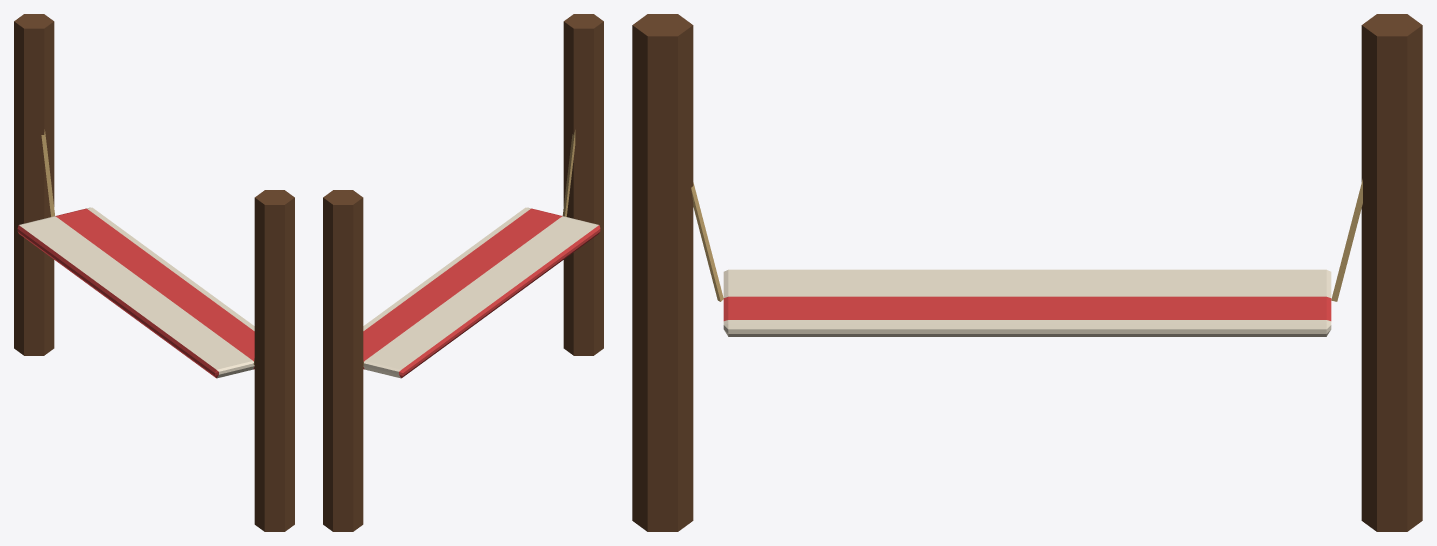
File: Hammock.fbx
3 renders of one model, left to right at view 1: azimuth 30°, elevation 25°; view 2: azimuth 150°, elevation 25°; view 3: azimuth 270°, elevation 25°, orthographic. The views are drawn at different scales.
Visible parts, largest first — view 1: Hammock; view 2: Hammock; view 3: Hammock.
Part boxes in pixels (<box>): Hammock: <box>14,14,294,531</box>; Hammock: <box>323,14,603,531</box>; Hammock: <box>632,14,1422,531</box>.
Bounding box in the file's own units: 1.1 × 4.5 × 6.5.
Materials: 1 (1 with a texture image).
